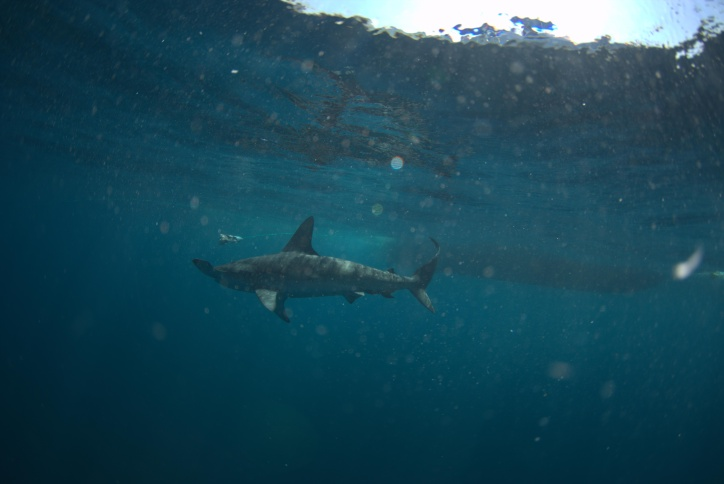Hammer: (155, 210, 446, 338)
